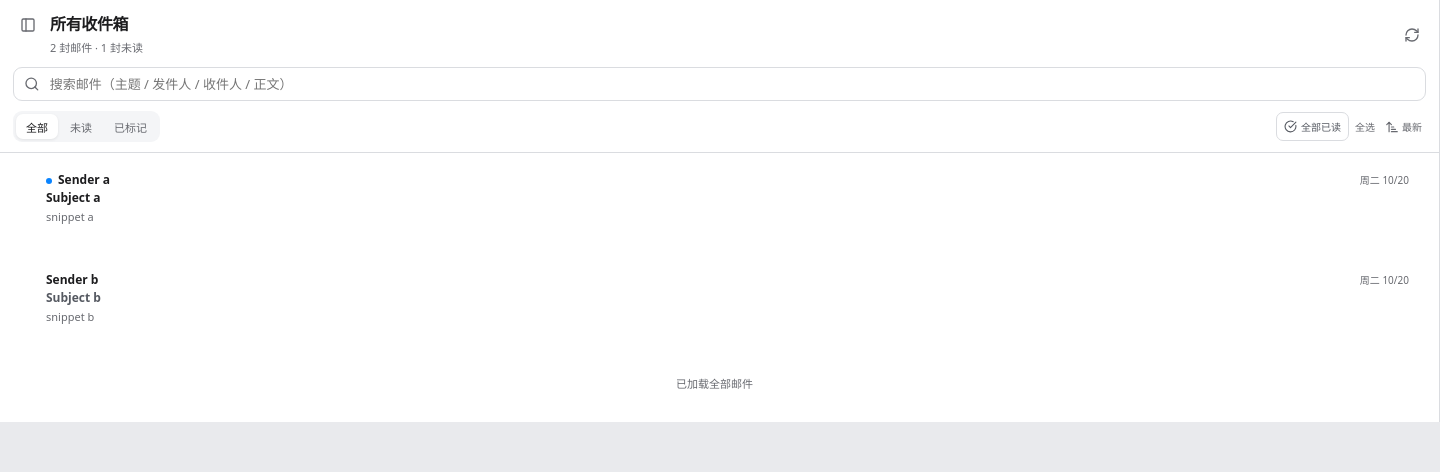
Test case: <MessageList /> › refetches authoritative read state after a partially committed mark-all failure
Expected: the text with class "list-count" reads "2 封邮件 · 1 封未读", [50,40,143,55]
Click the button with class "mark-all-btn".
click(1312, 126)  # box [1276,112,1349,141]
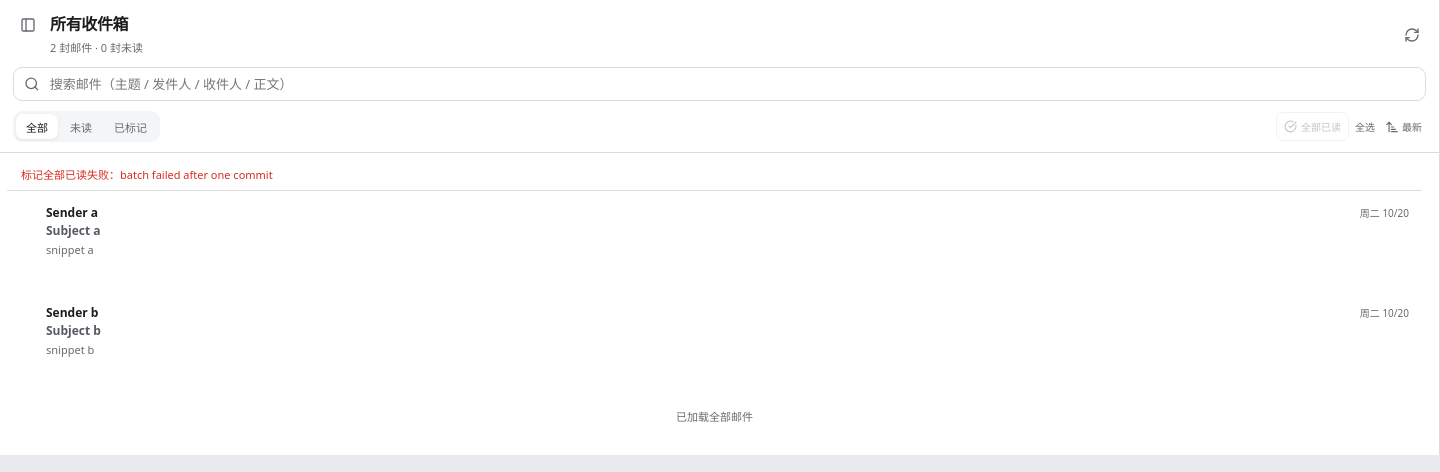
Now the message with class "error" shows "标记全部已读失败", box [21,167,273,182]
Now the text with class "list-count" reads "2 封邮件 · 0 封未读", box [50,40,143,55]
